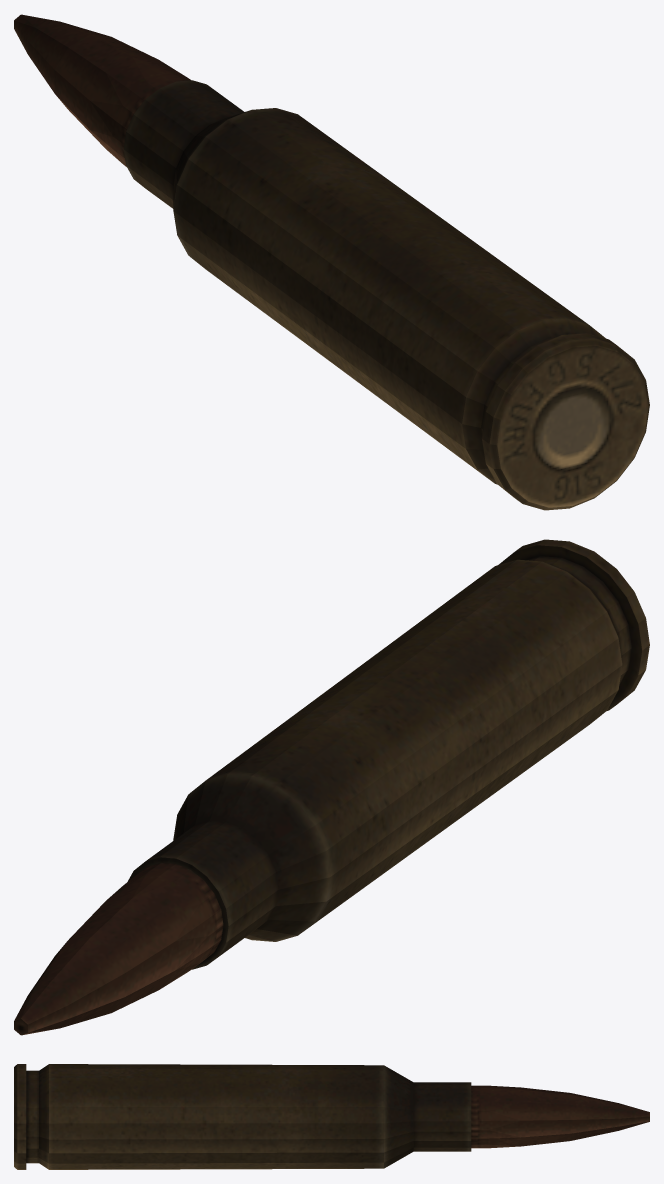
3 views of the same model, one above another, from view 1: azimuth 30°, elevation 25°; view 2: azimuth 150°, elevation 25°; view 3: azimuth 270°, elevation 25° (orthographic). The views are drawn at different scales.
Parts seen in each view (by area): view 1: TW_6529302b8c26af6326029fb7_PZ_Import; view 2: TW_6529302b8c26af6326029fb7_PZ_Import; view 3: TW_6529302b8c26af6326029fb7_PZ_Import.
Boxes of the visible parts, left/top/right/bottom form: TW_6529302b8c26af6326029fb7_PZ_Import: left=14, top=14, right=649, bottom=510; TW_6529302b8c26af6326029fb7_PZ_Import: left=14, top=539, right=649, bottom=1035; TW_6529302b8c26af6326029fb7_PZ_Import: left=14, top=1064, right=649, bottom=1169.
Size of the model in its own units: 0.00691 by 0.0412 by 0.00691.
1 material, 1 textured.
